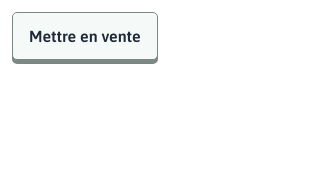
it: une action en cours ne peut pas repartir, et le bouton revient à sa fin
This screenshot has width=332, height=172.
Later steps or results of the test are not shown.
What coordinates should you click on to do the following:
click the button "Mettre en vente"
I would click on:
 (85, 36)
Its box is [12,12,158,60].
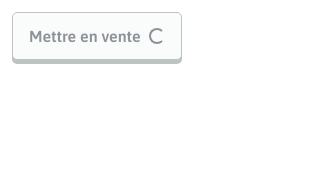
What coordinates should you click on to do the following:
click the button "Mettre en vente"
I would click on:
 (97, 36)
Its box is [12,12,182,60].
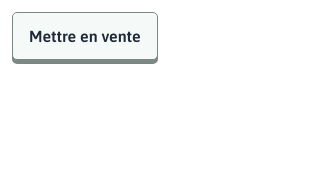
Result: the button "Mettre en vente" is enabled at [12,12,158,60]
Result: the button "Mettre en vente" has attribute aria-busy="false" at [12,12,158,60]
